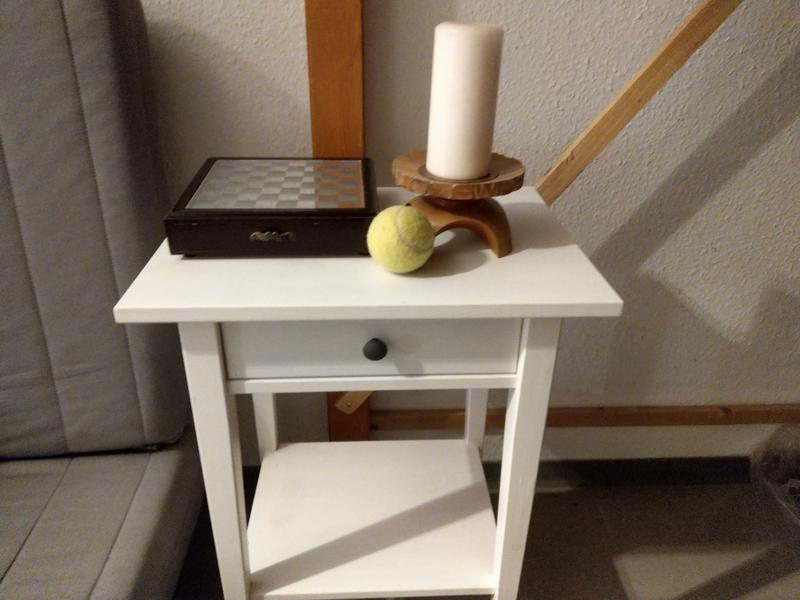Tennisball: (364, 203, 438, 277)
